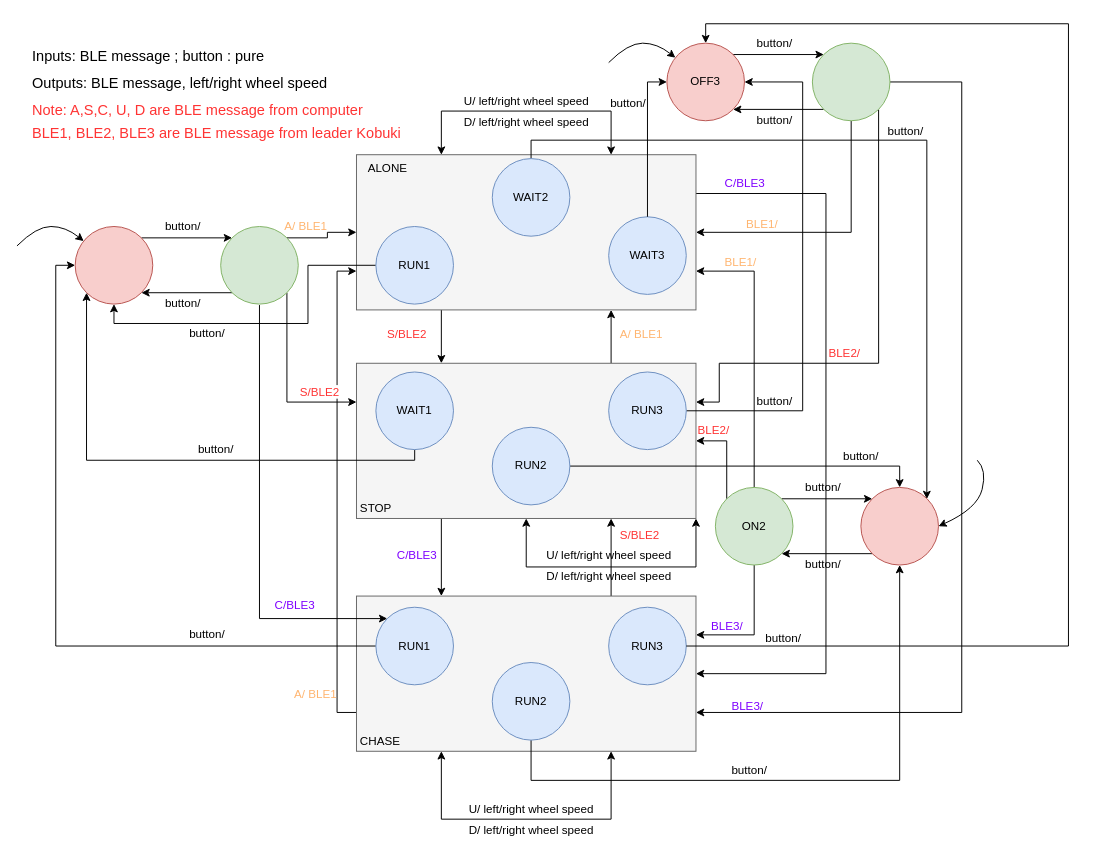
Some shapes in this 1093 by 857 pixel diagram are drawn without their labels. Here are the shapes that lost their labels. From the top down, the box of each, then its label:
(811, 42, 890, 121): ON3
(74, 226, 153, 304): OFF1
(220, 226, 298, 304): ON1
(860, 486, 938, 565): OFF2
